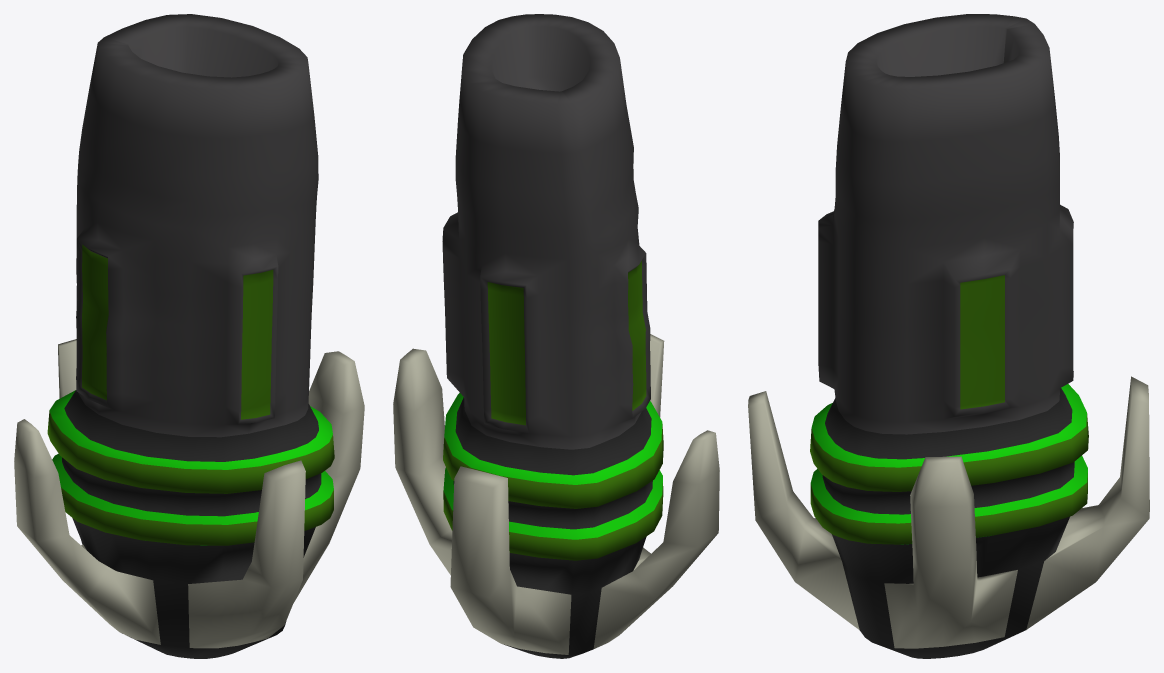
The model's file is MortarWeapon.fbx.
The picture shows the model from 3 angles, left to right: view 1: azimuth 30°, elevation 25°; view 2: azimuth 150°, elevation 25°; view 3: azimuth 270°, elevation 25°; orthographic projection. The views are drawn at different scales.
Visible parts, largest first — view 1: Weapon4.Bombs; view 2: Weapon4.Bombs; view 3: Weapon4.Bombs.
Boxes of the visible parts, x1,y1,x2,y2 form: Weapon4.Bombs: [14, 14, 364, 658]; Weapon4.Bombs: [393, 14, 719, 658]; Weapon4.Bombs: [748, 14, 1149, 658].
Size of the model in its own units: 62.97 by 111 by 67.24.
